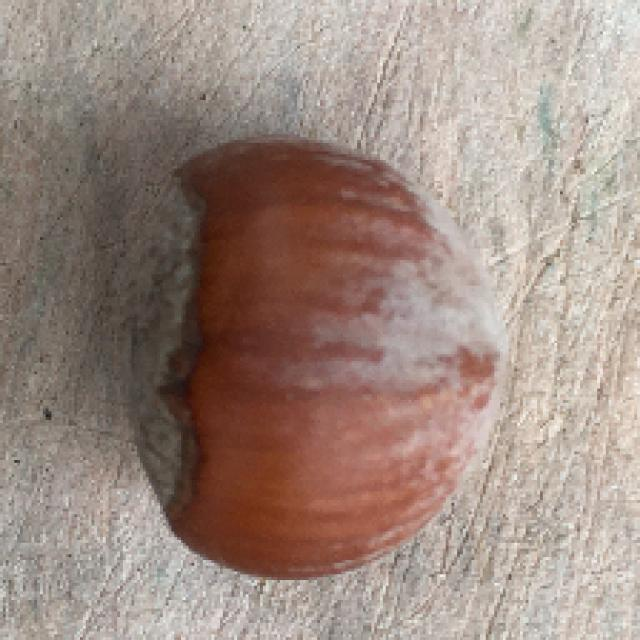qualityHazelnut: (114, 134, 510, 584)
